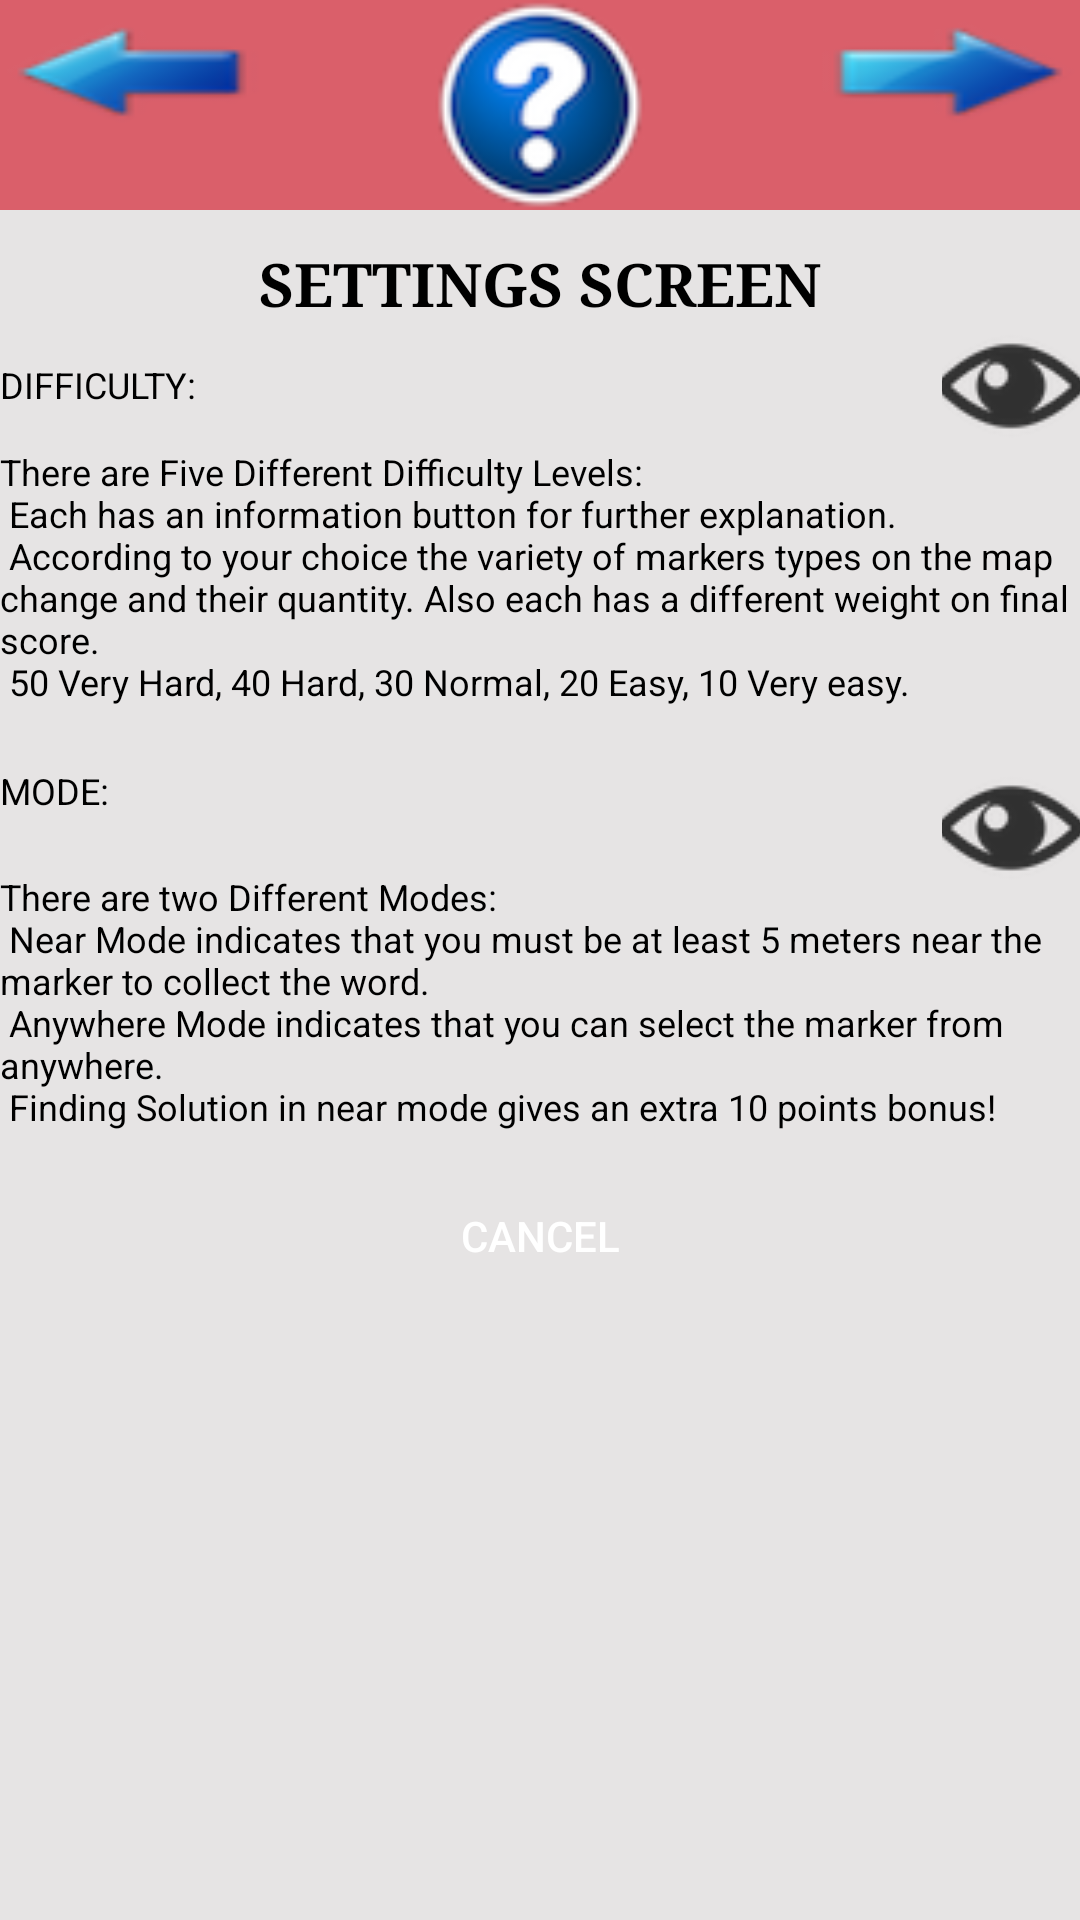

Icon bounding boxes for this 1080px x 1920px phone screenshot, format bbox(x1, y1, x2, y2):
eye: bbox(942, 343, 1080, 429), bbox(942, 785, 1080, 871)
